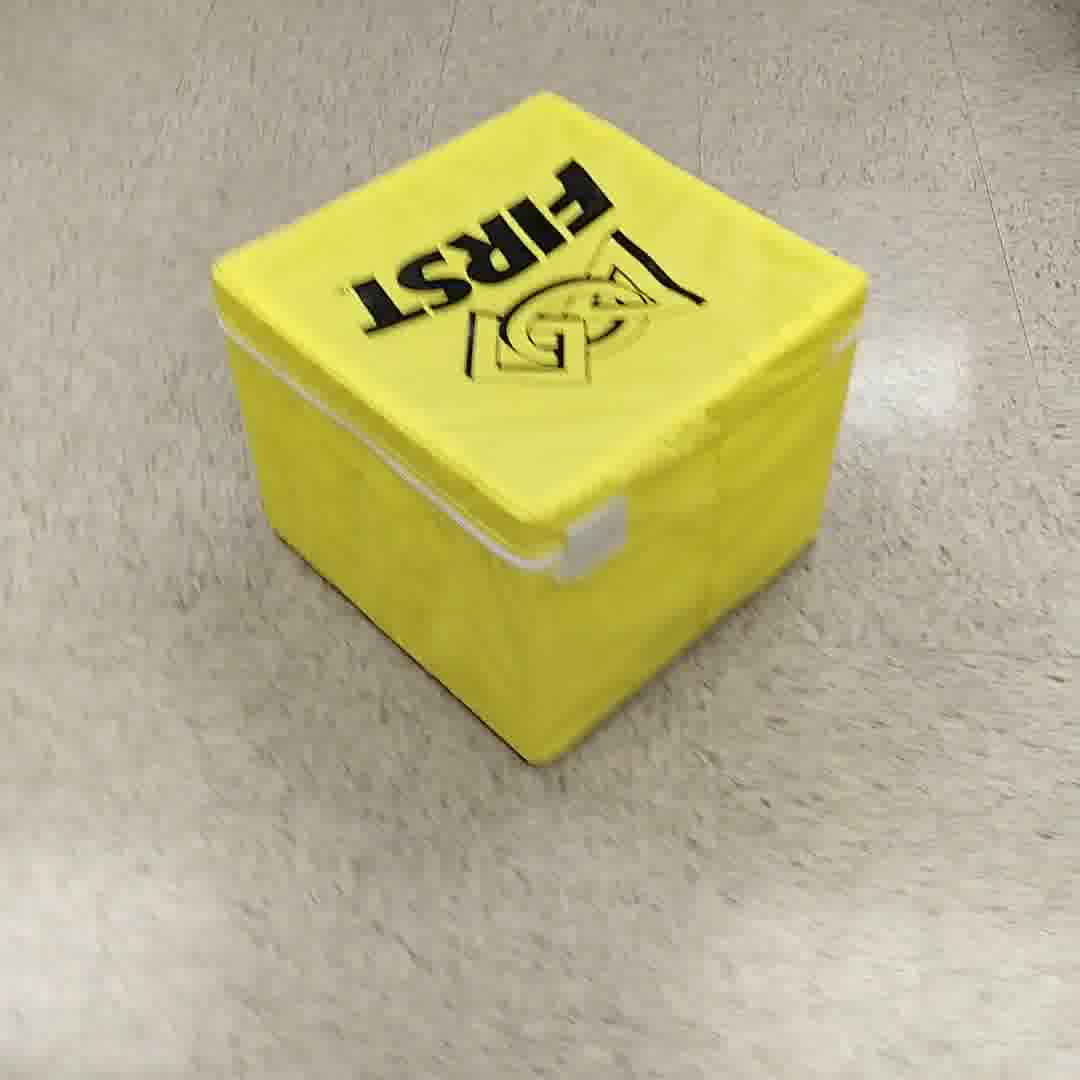box: (201, 105, 872, 771)
